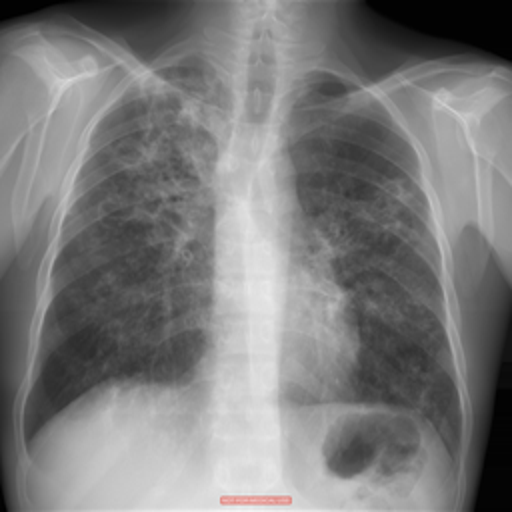TB: (123, 76, 212, 262), (355, 176, 421, 325)
